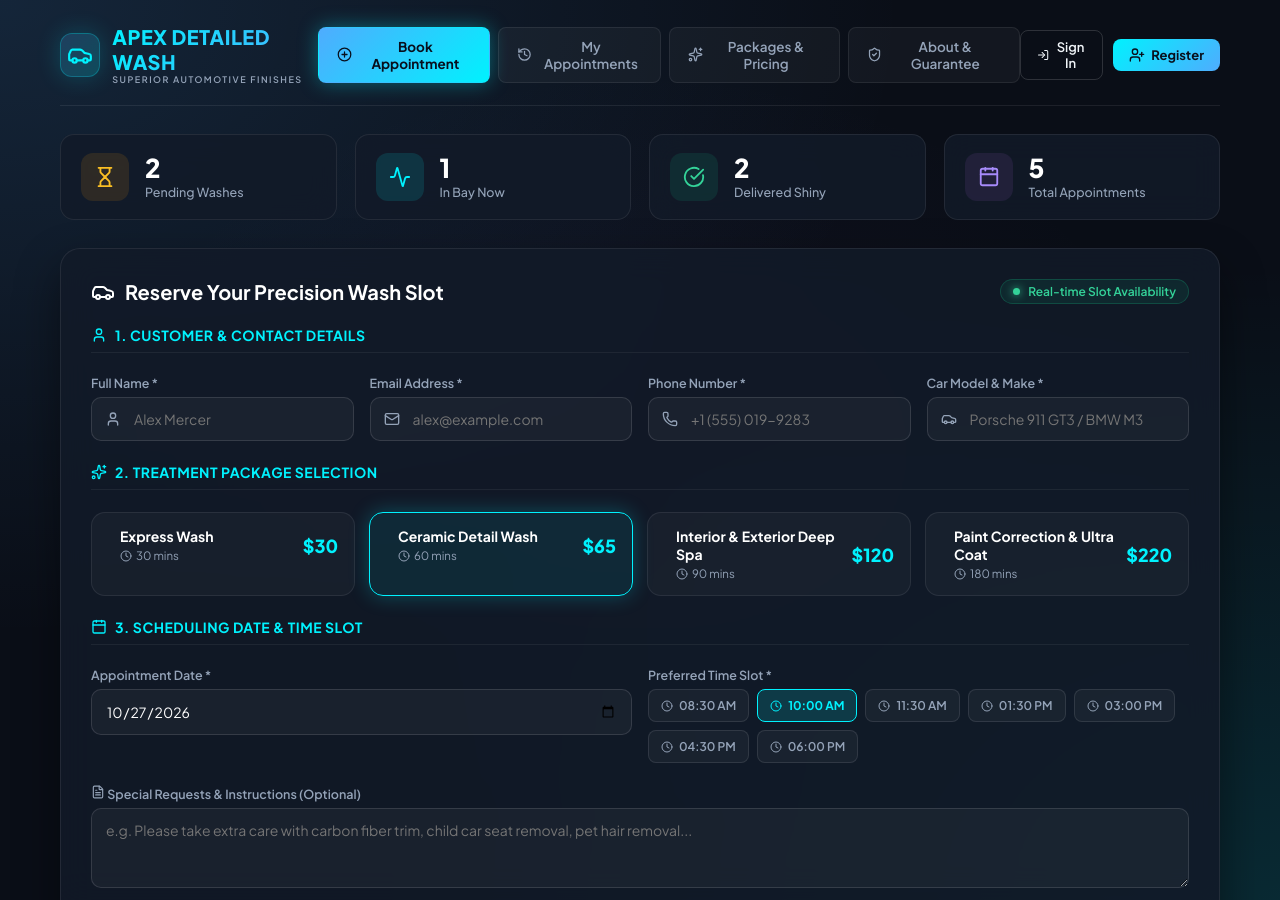
Test: Apex Detailed Wash - Frontend App Tests › opens Login modal when Sign In button is clicked
Click the button "Sign In" at point(1061, 54), box [1020,30,1103,80]
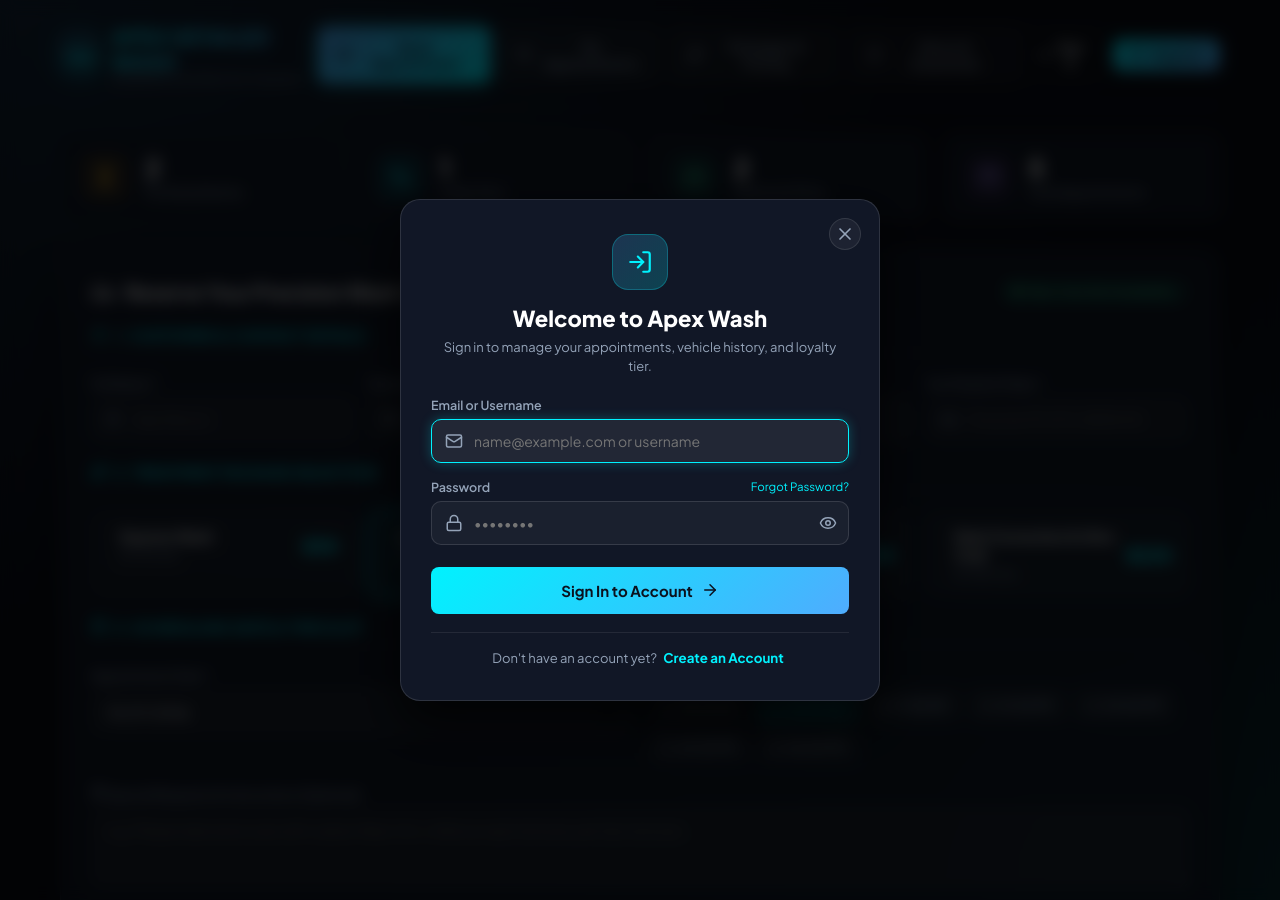
Result: the heading "Welcome to Apex Wash" is shown at [513,304,767,332]
Result: the field labelled "Email or Username" is shown at [431,419,849,463]
Result: the password field with placeholder "••••••••" is shown at [431,501,849,545]
